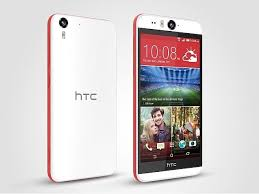htc: (45, 9, 120, 182), (132, 10, 207, 183)
